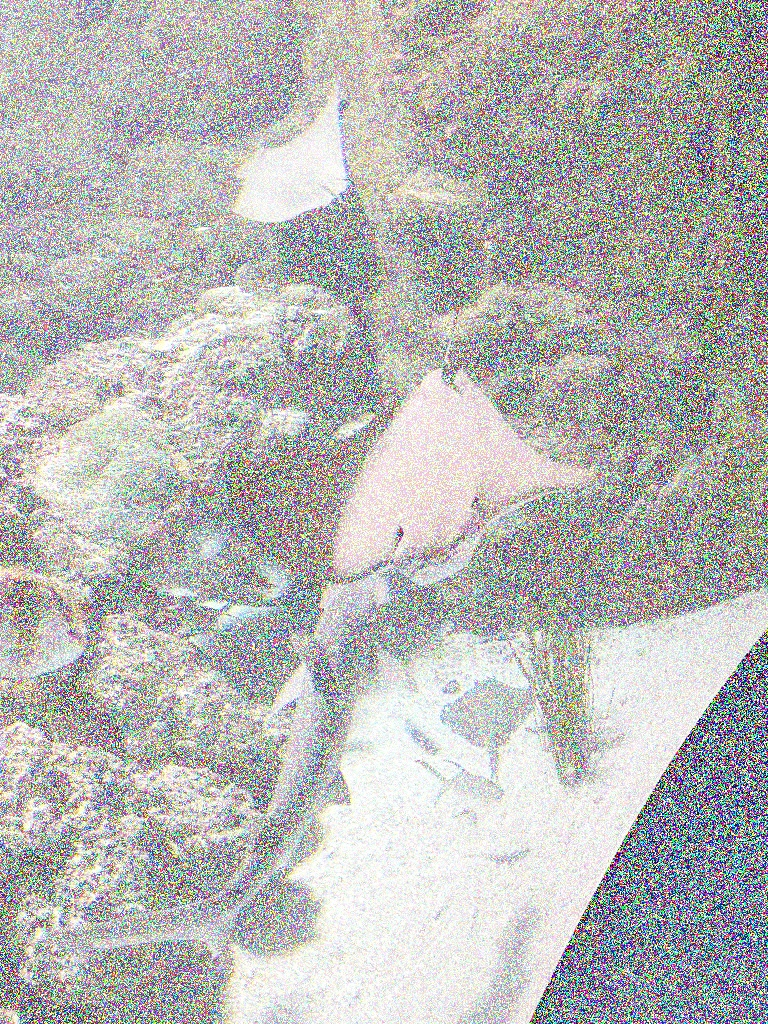fish: (1, 565, 91, 689), (413, 755, 510, 811)
shark: (43, 571, 421, 983)
stingray: (221, 359, 596, 583), (222, 74, 352, 232), (438, 675, 545, 753)
